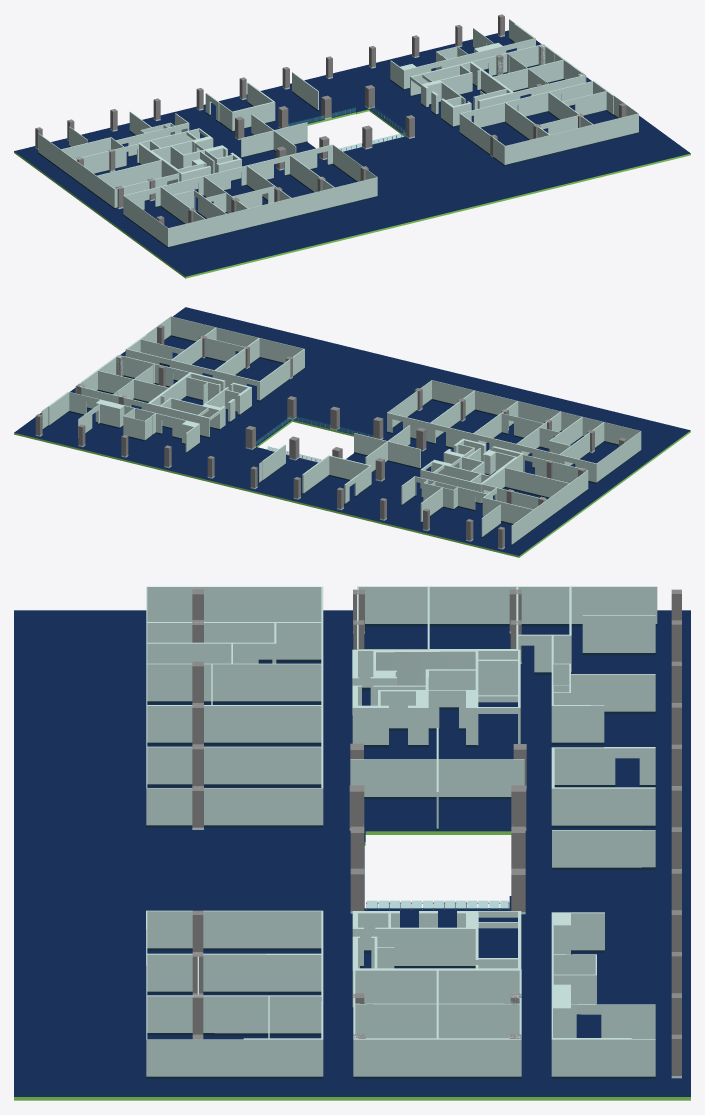
Rendered from 3F_Floor.fbx.
3 views of the same model, one above another, from view 1: azimuth 30°, elevation 25°; view 2: azimuth 150°, elevation 25°; view 3: azimuth 270°, elevation 25° (orthographic). The views are drawn at different scales.
Parts seen in each view (by area): view 1: 3_Floor, Room_02, Room_07, Room_01, 3F_EV_02, Room_06, 3F_Pillar, 3F_EV_01, Room_05, Room_04, Center_Pillar_3F, Room_03 (+1 smaller); view 2: 3_Floor, Room_02, Room_01, Room_07, 3F_EV_02, Room_05, 3F_Pillar, Room_06, 3F_EV_01, Room_04, Room_03, Center_Pillar_3F (+1 smaller); view 3: 3_Floor, Room_02, Room_07, Room_01, 3F_EV_02, Room_06, 3F_EV_01, Room_04, Room_05, 3F_Pillar, Room_03, Center_Pillar_3F (+2 smaller).
Part boxes in pixels (x1,y1,x2,y2): 3_Floor: [14, 30, 690, 278]; Room_02: [123, 144, 377, 248]; Room_07: [459, 80, 638, 165]; Room_01: [38, 111, 189, 209]; 3F_EV_02: [410, 61, 514, 127]; Room_06: [470, 44, 586, 110]; 3F_Pillar: [35, 14, 626, 224]; 3F_EV_01: [139, 128, 241, 191]; Room_05: [390, 19, 535, 90]; Room_04: [205, 72, 318, 132]; Center_Pillar_3F: [235, 85, 414, 170]; Room_03: [241, 114, 307, 158]; 3_Floor: [14, 307, 690, 557]; Room_02: [387, 380, 641, 483]; Room_01: [401, 454, 588, 545]; Room_07: [125, 316, 304, 401]; 3F_EV_02: [148, 372, 251, 438]; Room_05: [41, 391, 199, 453]; 3F_Pillar: [35, 325, 626, 549]; Room_06: [75, 354, 189, 410]; 3F_EV_01: [420, 438, 523, 504]; Room_04: [259, 444, 371, 504]; Room_03: [354, 425, 420, 472]; Center_Pillar_3F: [245, 396, 426, 481]; 3_Floor: [14, 610, 690, 1100]; Room_02: [146, 586, 323, 827]; Room_07: [146, 910, 323, 1078]; Room_01: [357, 586, 657, 744]; 3F_EV_02: [352, 911, 521, 1009]; Room_06: [353, 968, 521, 1078]; 3F_EV_01: [352, 649, 520, 747]; Room_04: [551, 747, 655, 869]; Room_05: [551, 912, 655, 1078]; 3F_Pillar: [192, 589, 681, 1078]; Room_03: [350, 728, 524, 830]; Center_Pillar_3F: [349, 743, 526, 914].
Bounding box in the file's own units: 85 × 3.5 × 50.
